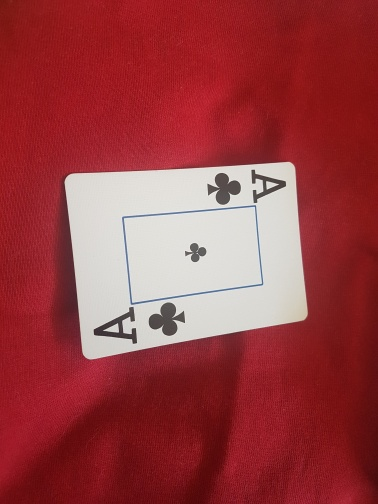ace: (65, 162, 309, 359)
